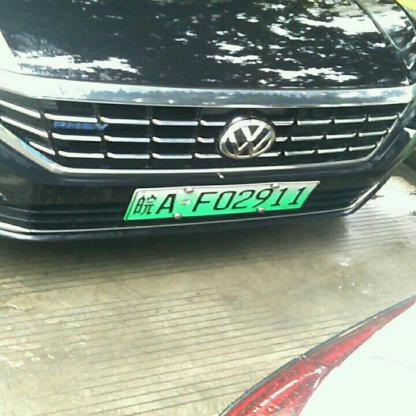lp: (127, 182, 317, 219)
